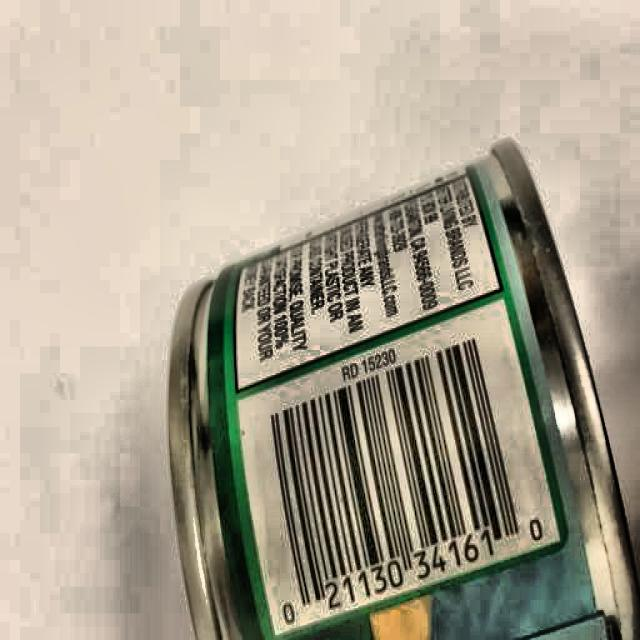metal: (167, 138, 640, 639)
